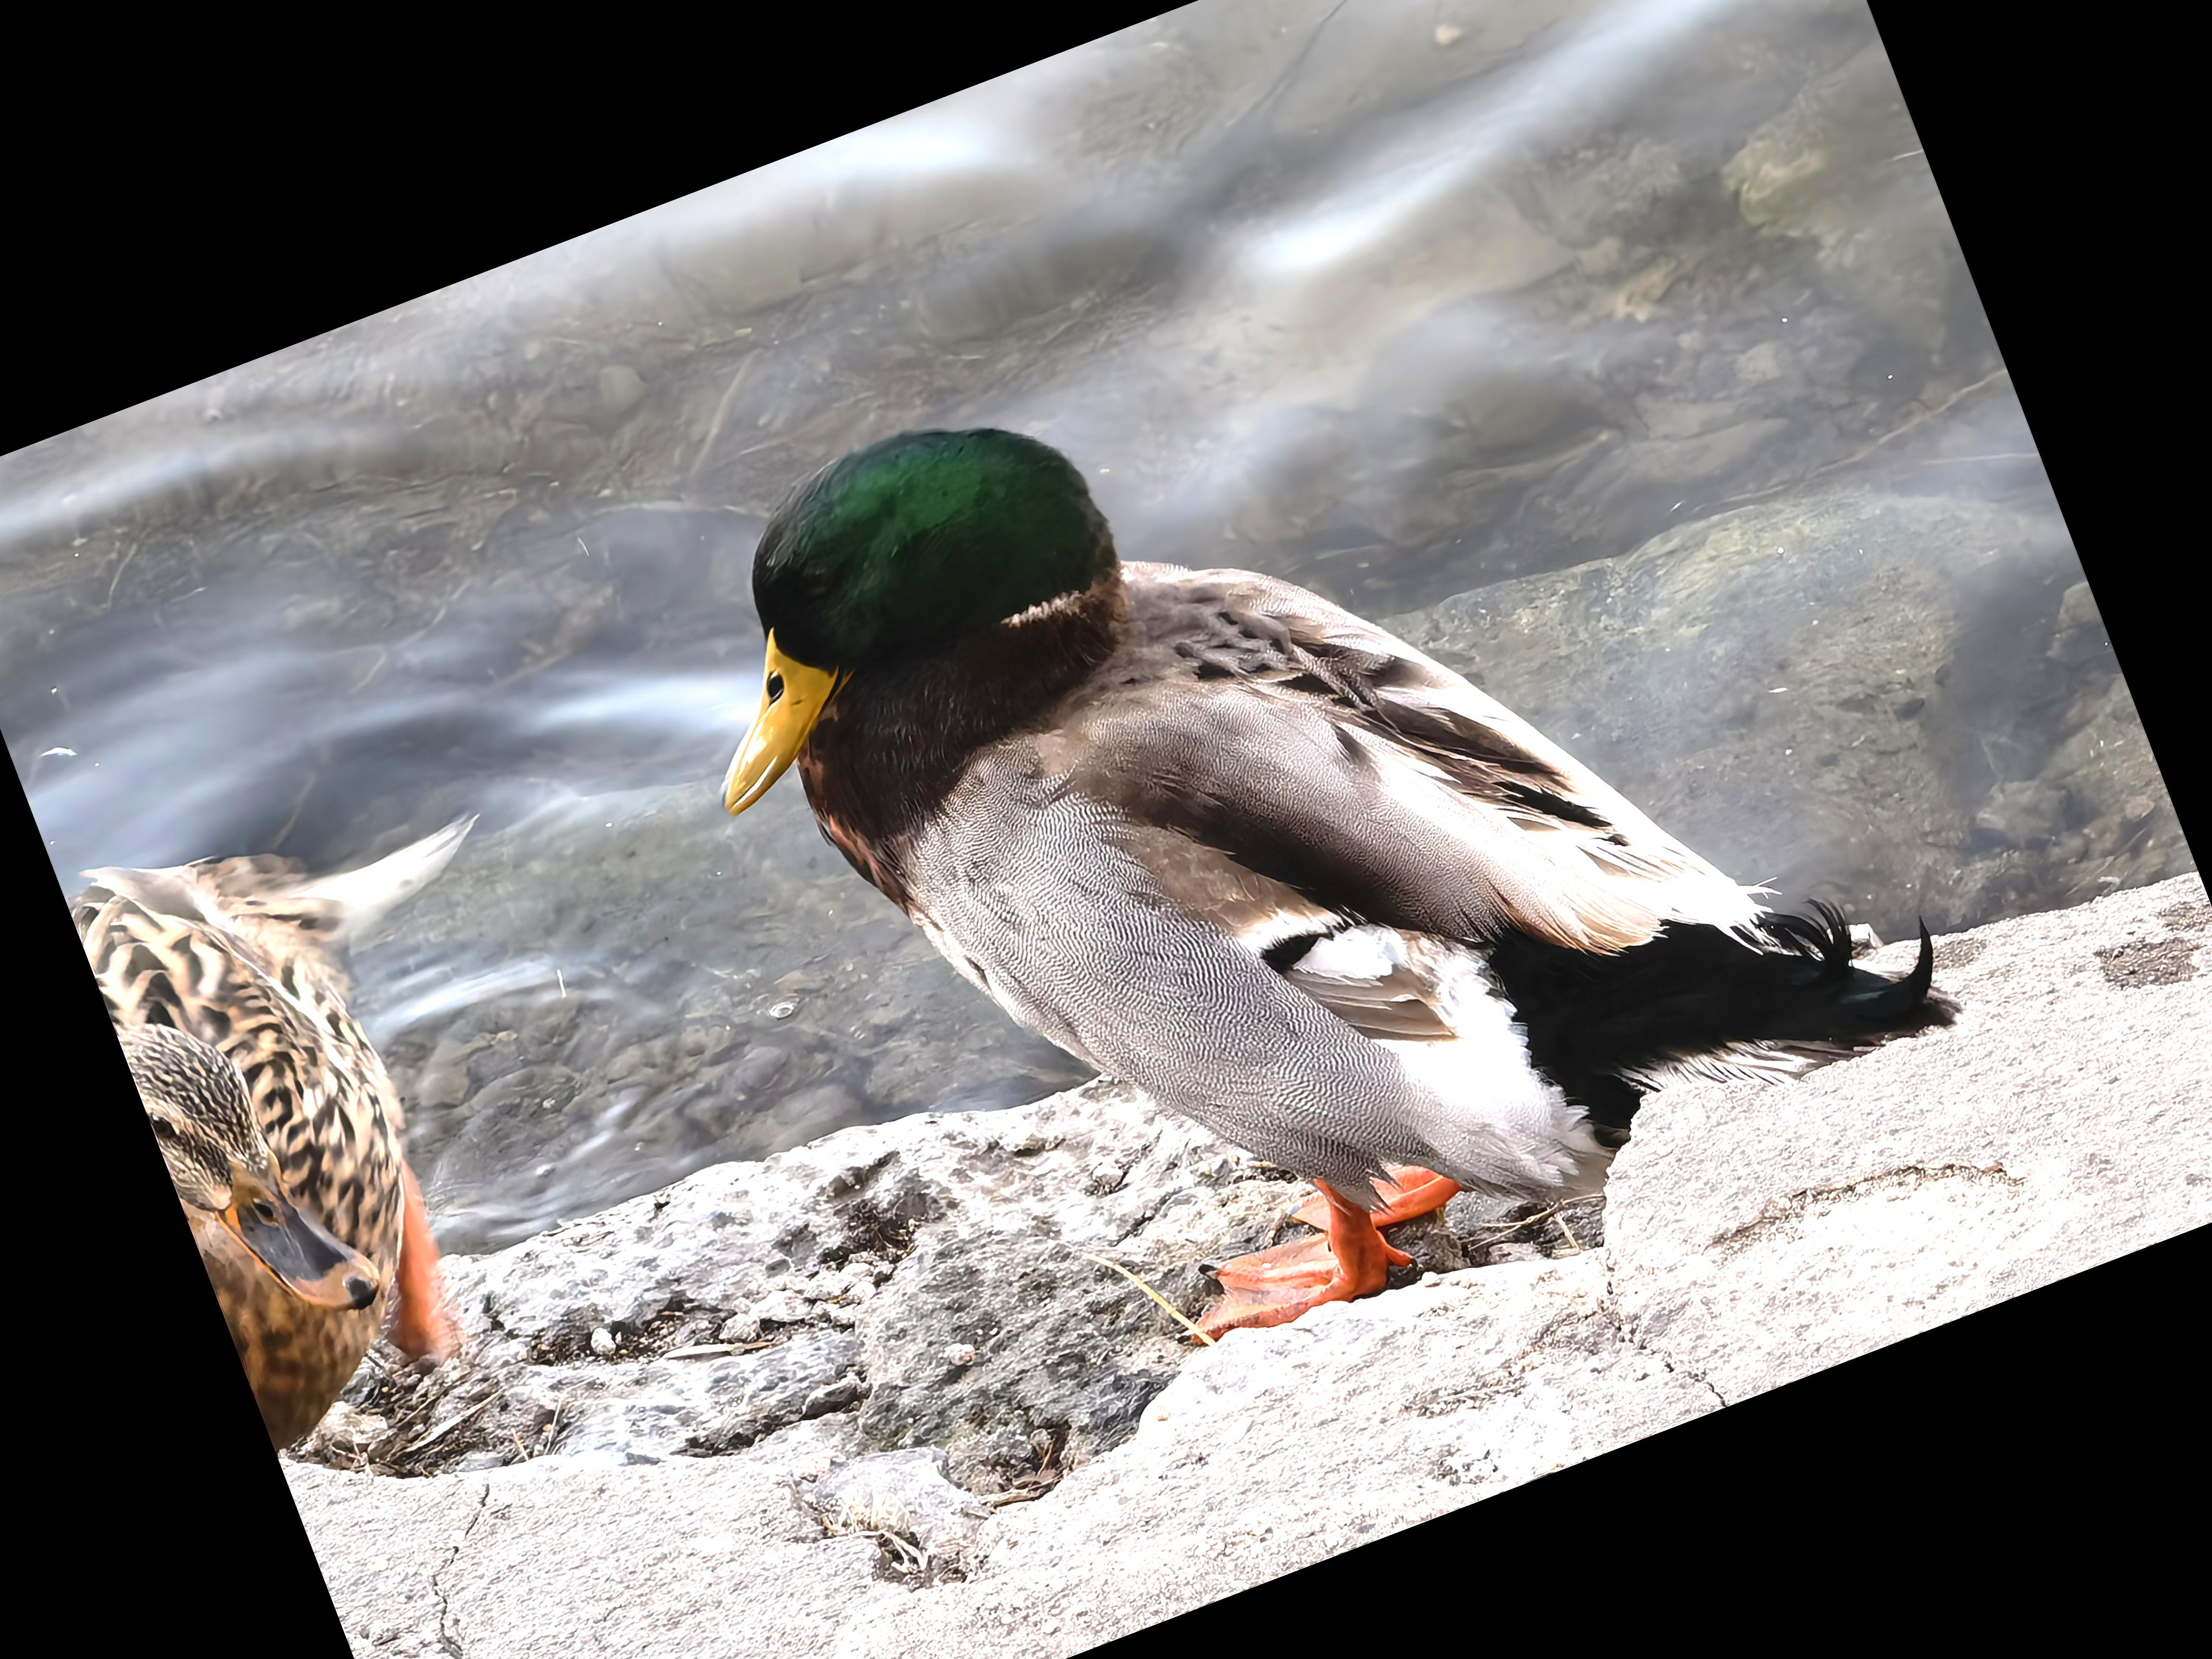duck: (578, 92, 1982, 1438), (38, 687, 651, 1453)
